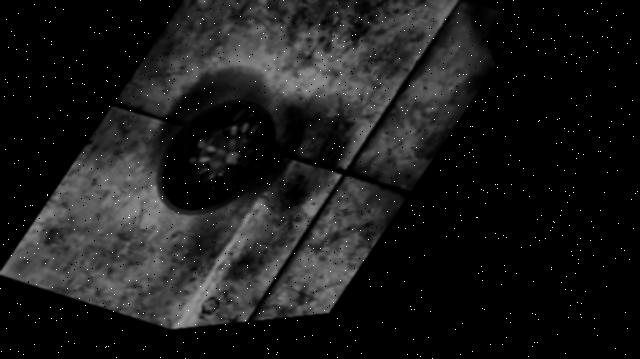pot: (159, 98, 276, 212)
